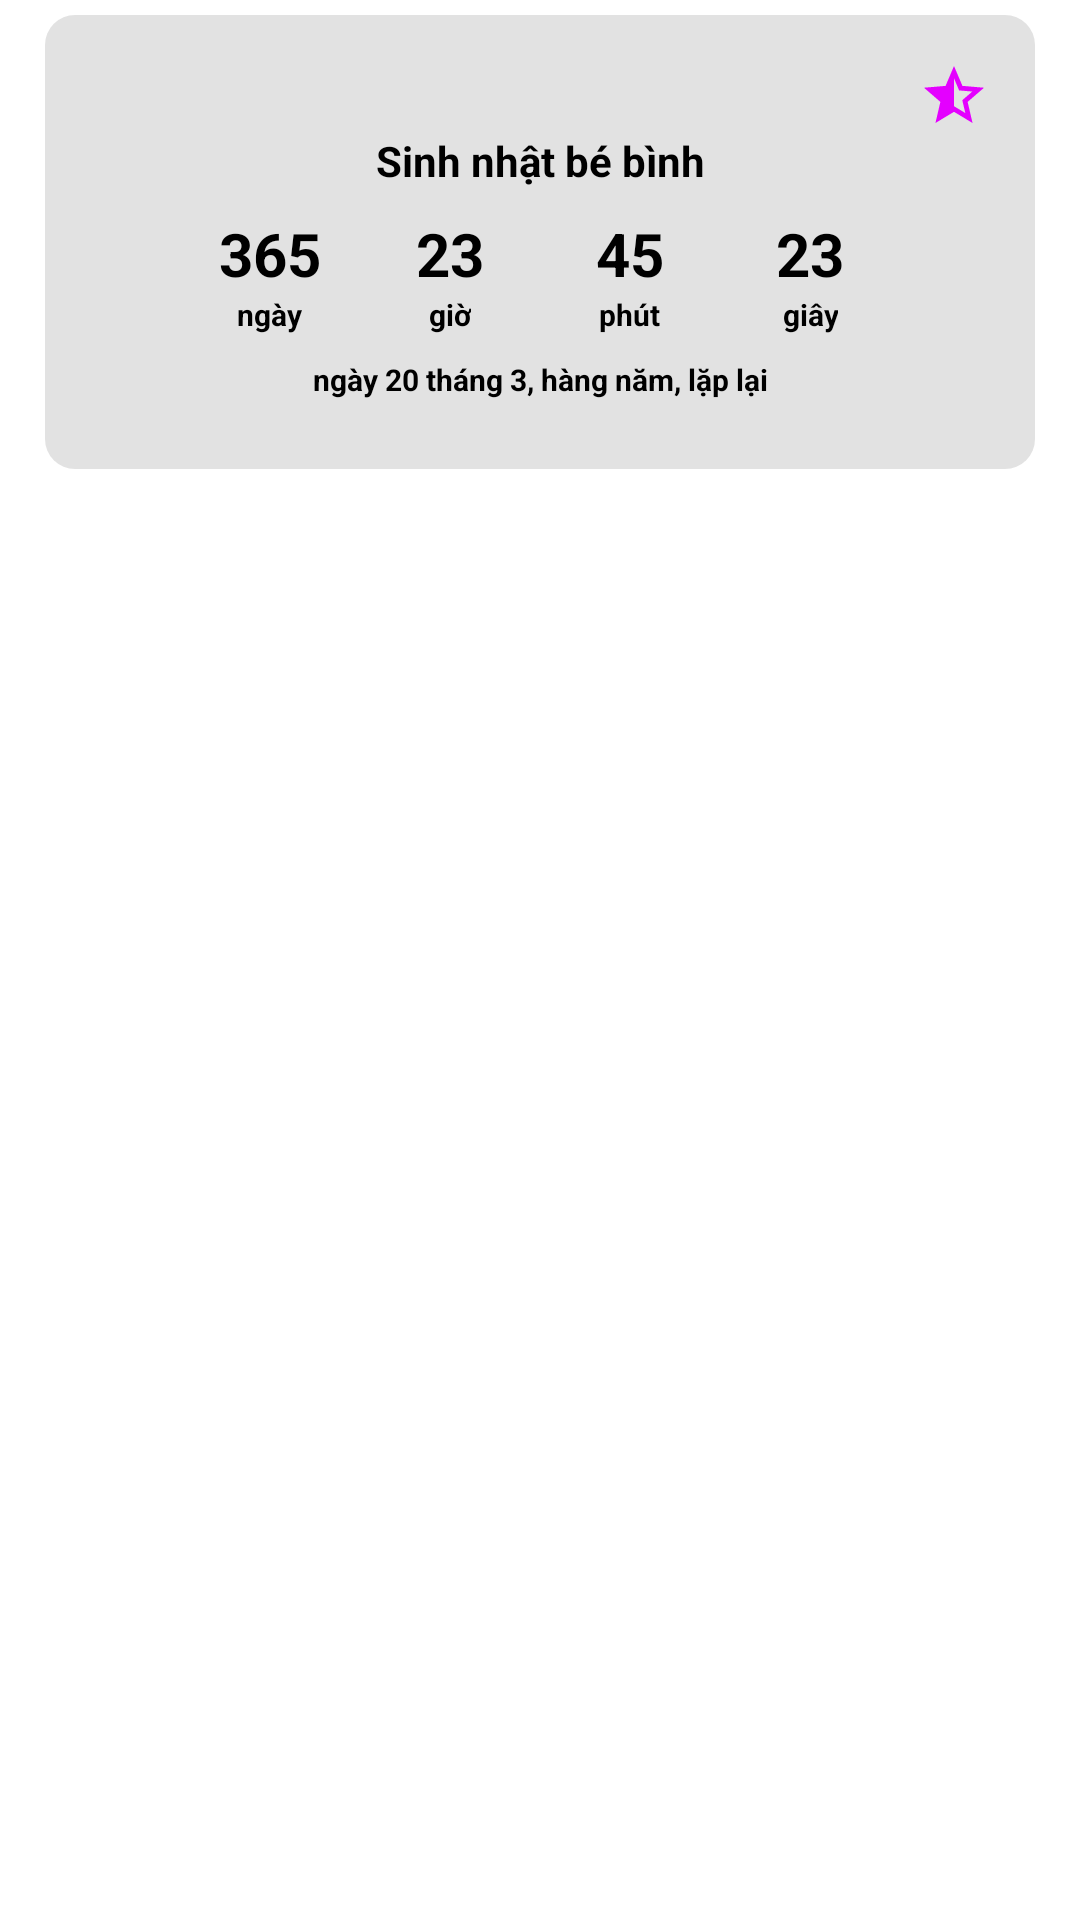

Locate icon controls on the screen. Image size 1080px x 1920px, boxes as Rect(x1, y1, x2, y2).
star half: Rect(924, 66, 984, 123)
